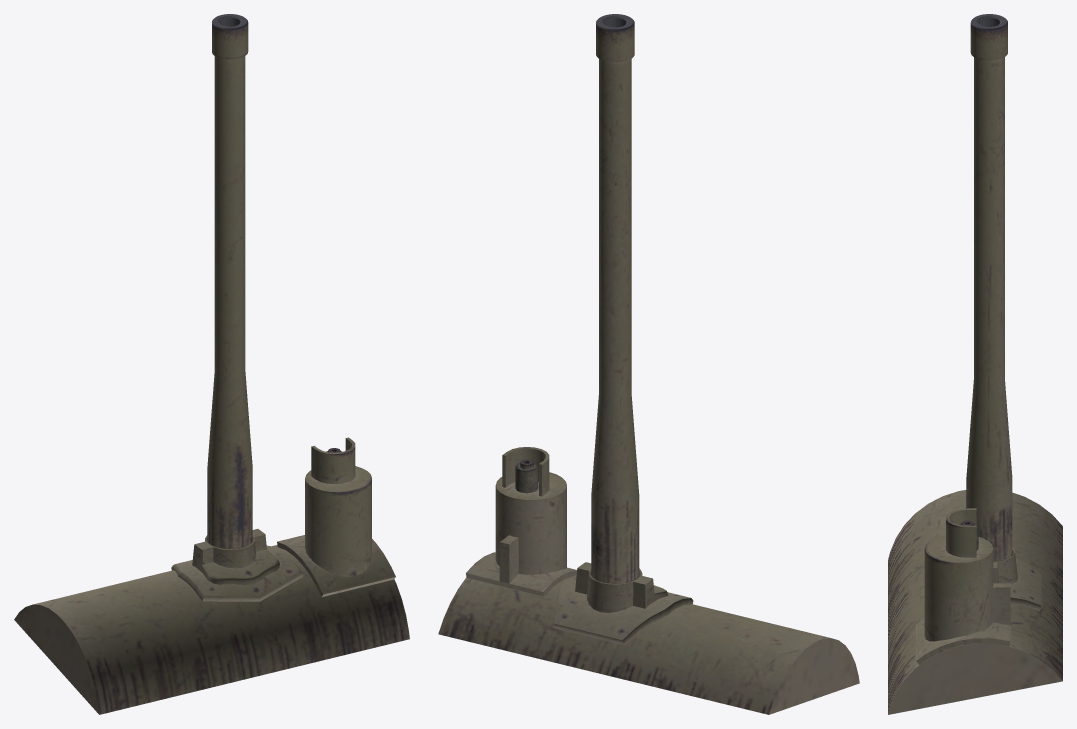
Rendered from Gun_01.glb.
3 views of the same model, side by side, from view 1: azimuth 30°, elevation 25°; view 2: azimuth 150°, elevation 25°; view 3: azimuth 270°, elevation 25° (orthographic). The views are drawn at different scales.
Visible parts, largest first — view 1: set_0_group_0; view 2: set_0_group_0; view 3: set_0_group_0.
Boxes of the visible parts, x1,y1,x2,y2 form: set_0_group_0: (14,14,409,714); set_0_group_0: (438,14,859,714); set_0_group_0: (888,14,1062,714).
Size of the model in its own units: 0.8356 by 1.58 by 0.3975.
Materials: 1 (1 with a texture image).
